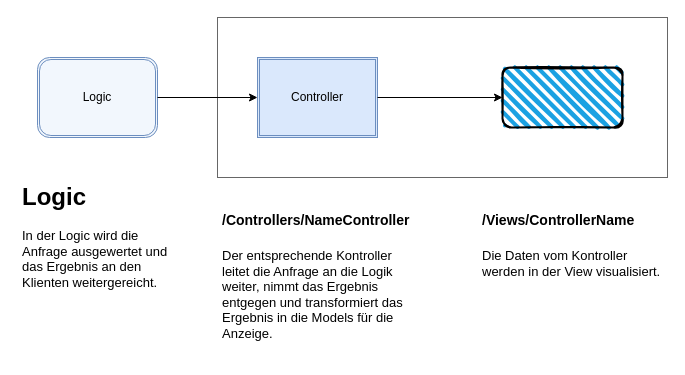
Some shapes in this 685 by 375 pixel diagram are drawn without their labels. Here are the shapes that lost their labels. From the top down, the box of each, then its label:
(216, 16, 668, 178): AspMvc
(501, 66, 623, 128): View
